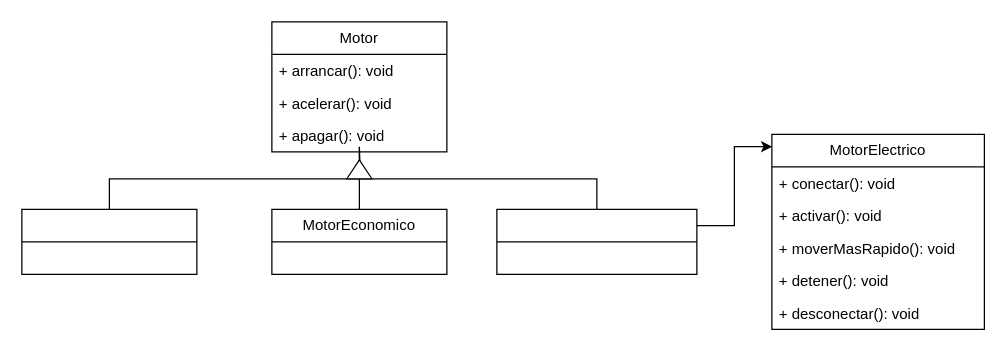
Image size: 1006x355. Some labels were removed from this diagram. Here are the shapes that lost their labels. From the top down, the centre of each, then its label:
At (x=109, y=241): "MotorComun".
At (x=596, y=241): "MotorElectricoAdapter".
